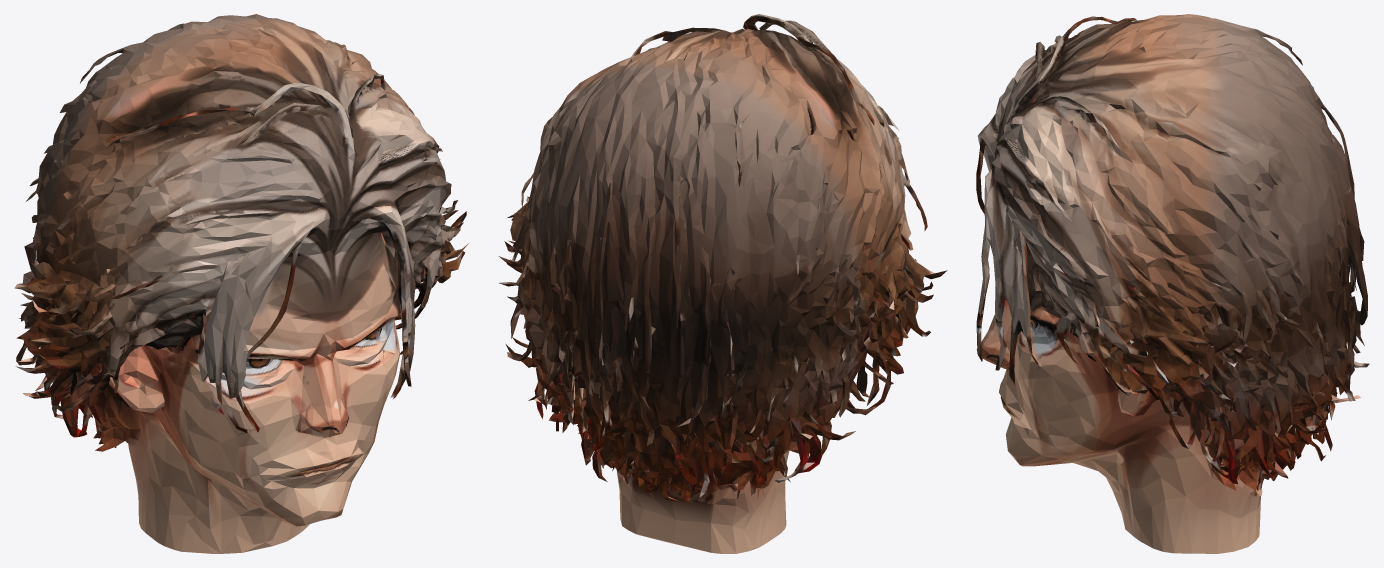
Rendered from side_pigeonkeeper_repaired_atlas.glb.
3 renders of one model, left to right at view 1: azimuth 30°, elevation 25°; view 2: azimuth 150°, elevation 25°; view 3: azimuth 270°, elevation 25°, orthographic. The views are drawn at different scales.
Visible parts, largest first — view 1: temp_mesh.ply; view 2: temp_mesh.ply; view 3: temp_mesh.ply.
Boxes of the visible parts, bbox=[...] form: temp_mesh.ply: bbox=[14, 14, 468, 553]; temp_mesh.ply: bbox=[498, 14, 947, 553]; temp_mesh.ply: bbox=[976, 14, 1369, 553].
Bounding box in the file's own units: 1.84 × 1.97 × 1.46.
1 material, 1 textured.
